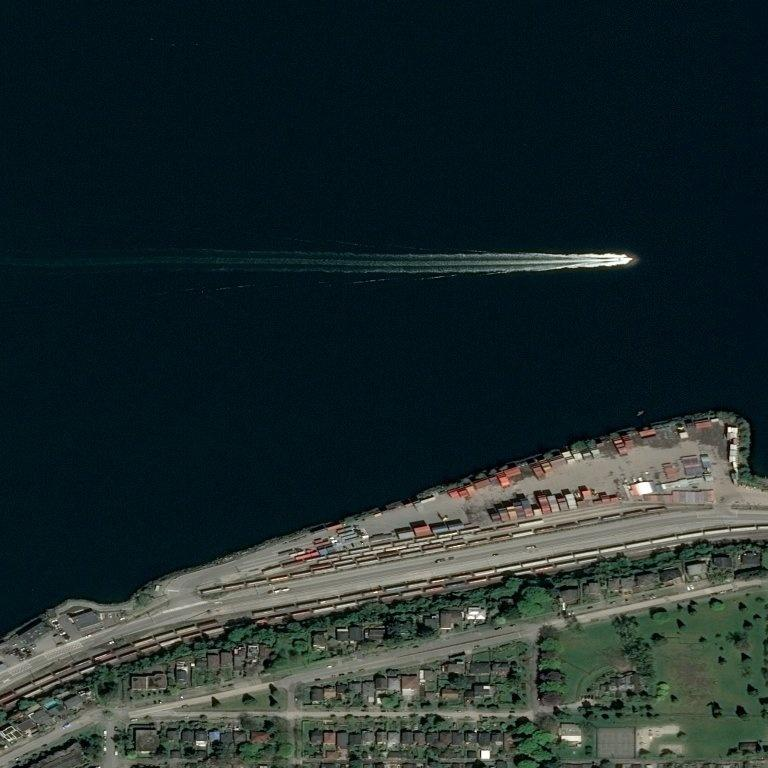ship: (618, 256, 625, 263), (631, 258, 634, 260), (643, 410, 644, 412), (637, 413, 638, 415), (615, 415, 616, 416), (625, 7, 625, 8), (625, 258, 625, 258), (640, 413, 642, 413)
